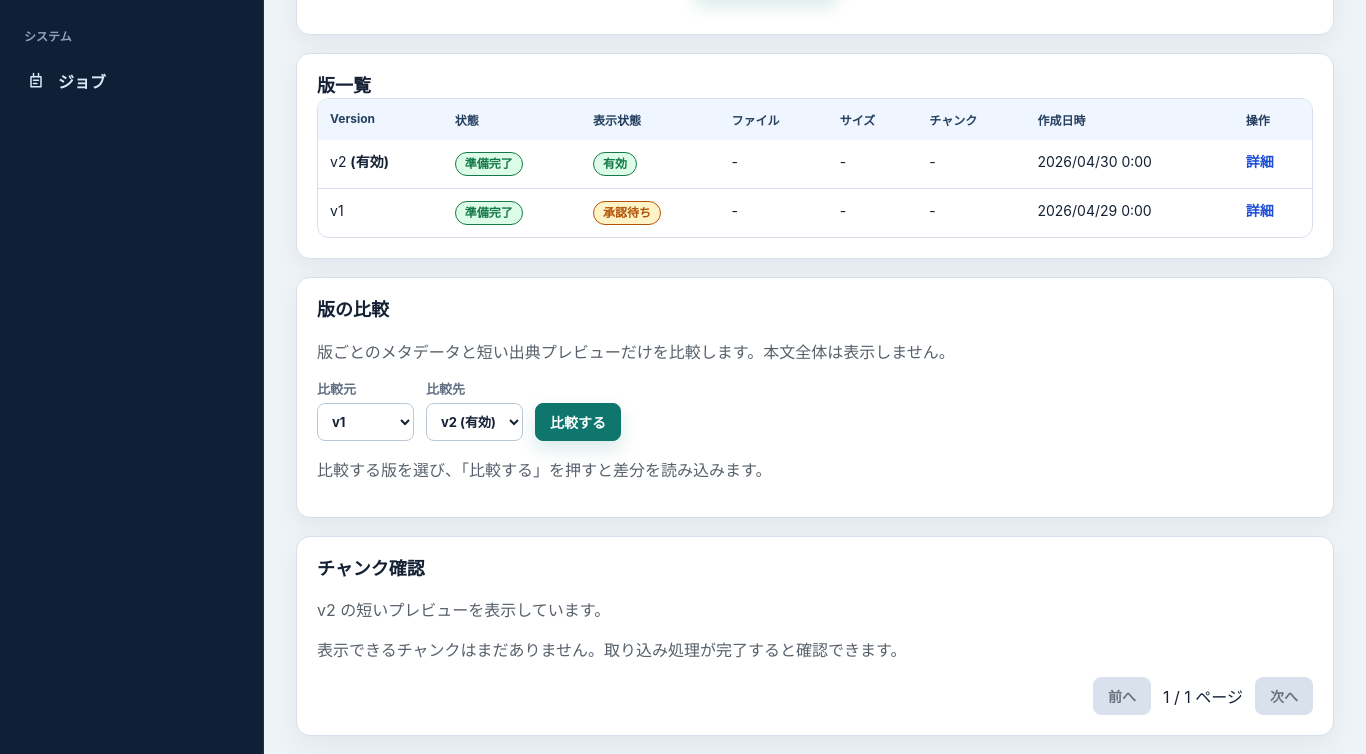
Test: document detail renders version compare summary and bounded previews
The width and height of the screenshot is (1366, 754).
(page scrolled)
expect the heading "版の比較" is shown: met, box [317,300,389,320]
expect the text "版ごとのメタデータと短い出典プレビューだけを比較します。本文全体は表示しません。" is shown: met, box [317,342,955,362]
Click the button "比較する" at (578, 422), box [535,403,621,441]
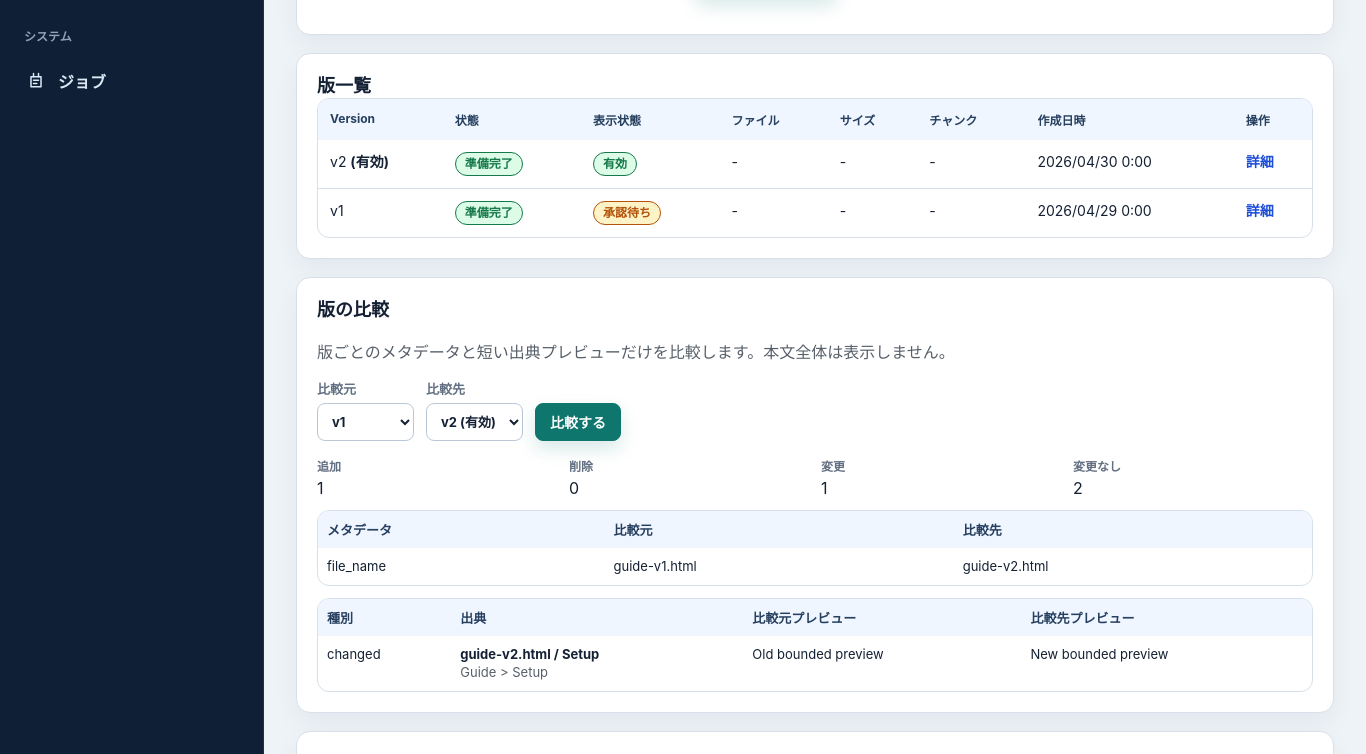
expect the text "New bounded preview" is shown: met, box [1021,636,1312,691]
expect the text "file_name" is shown: met, box [318,548,604,585]
expect the text "Guide > Setup" is shown: met, box [460,664,548,680]
